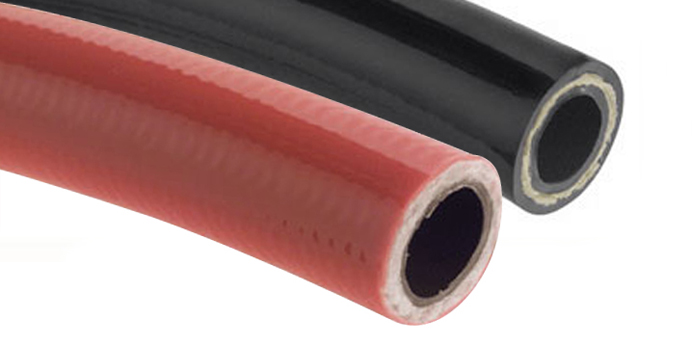Nonrec_Tangler: (1, 1, 614, 331)
